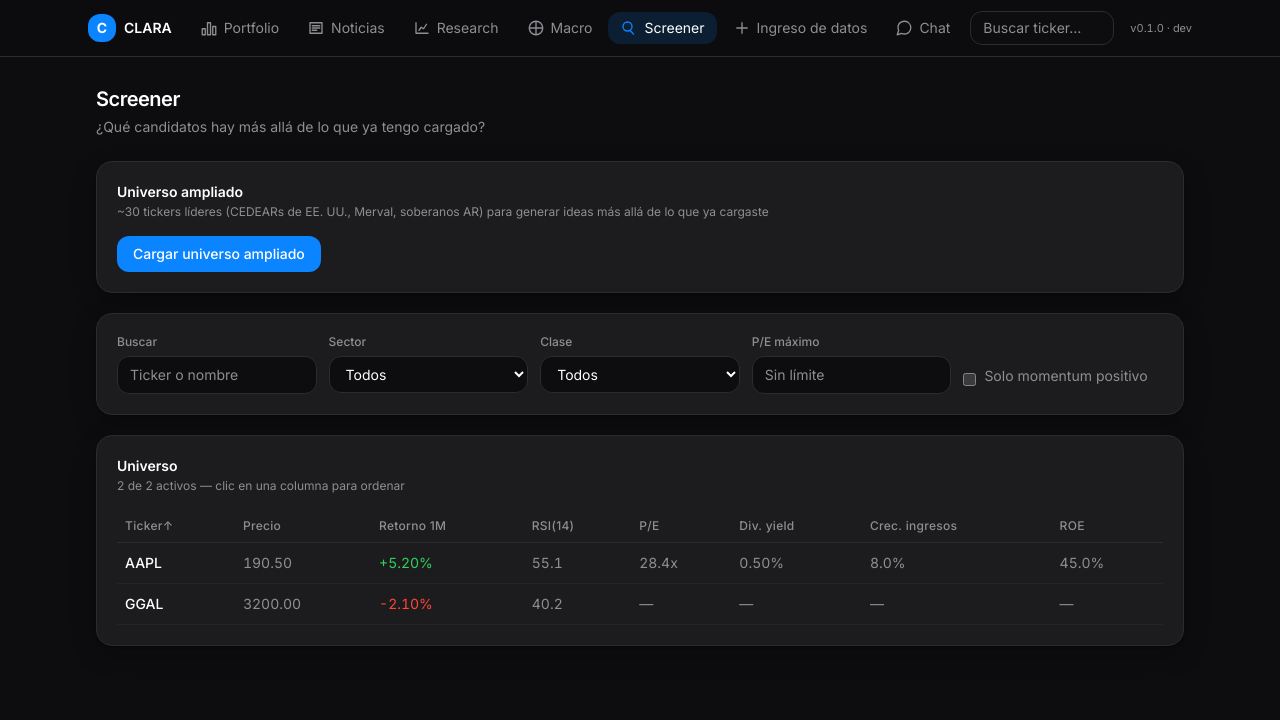
it: Screener page › lists every tracked asset and filters by search
Expected: the link "AAPL" is shown, x1=125 y1=554 x2=162 y2=571
Expected: the link "GGAL" is shown, x1=125 y1=595 x2=163 y2=612
Type "AAPL" into the field with placeholder "Ticker o nombre".
click(217, 375); type("AAPL")  # box x1=117 y1=356 x2=317 y2=394
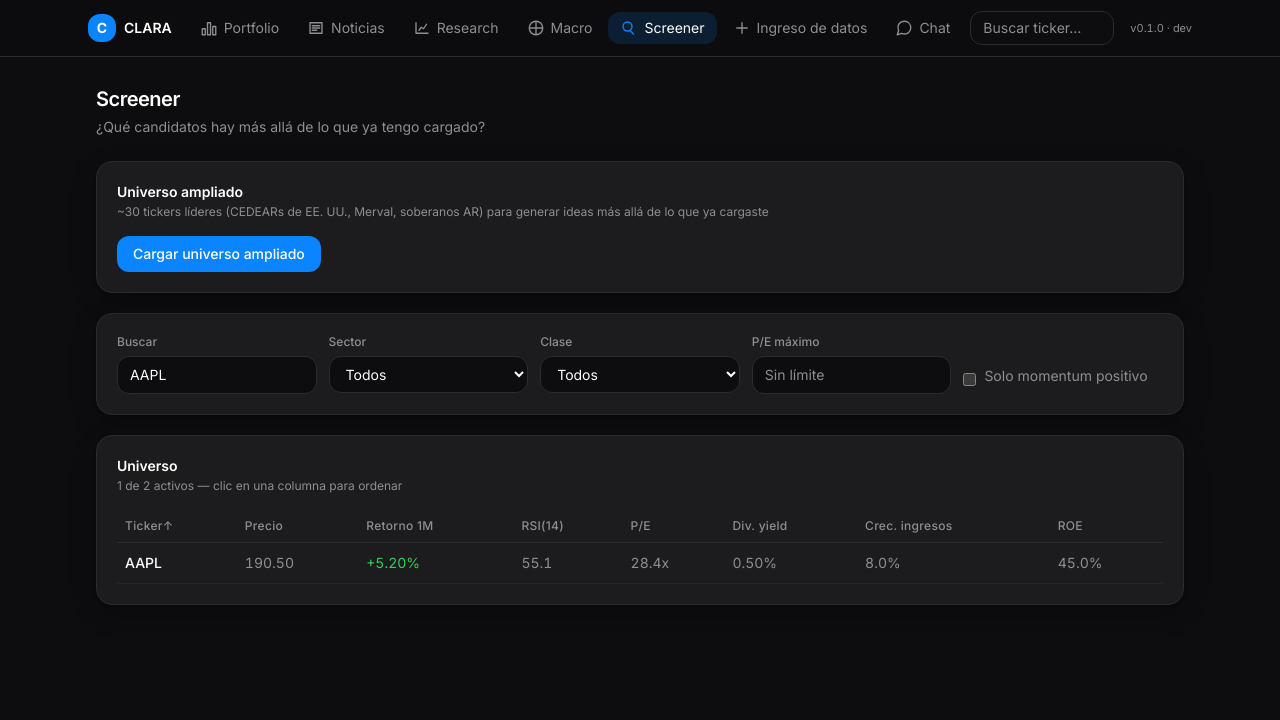
Expected: the link "AAPL" is shown, x1=125 y1=554 x2=162 y2=571
Result: the link "GGAL" is gone
